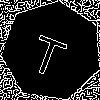T: (26, 25, 72, 79)
